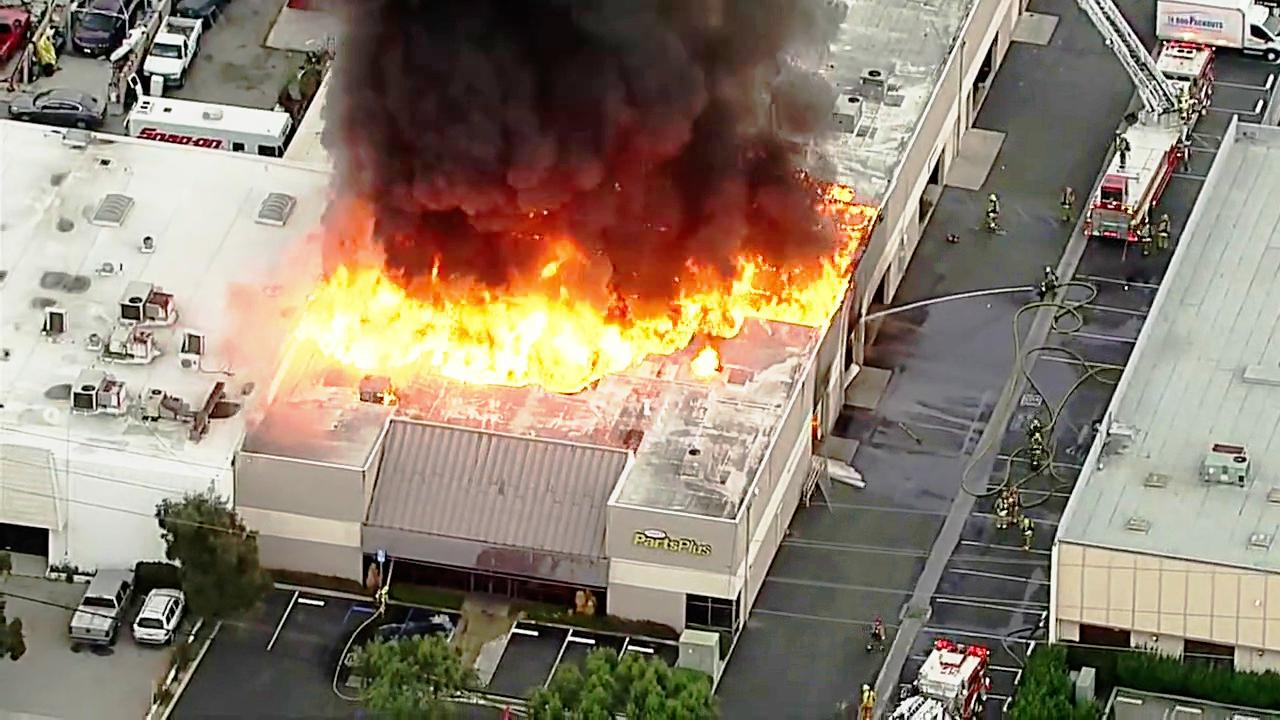fire: (425, 275, 632, 395), (638, 262, 852, 368), (310, 255, 434, 384)
smoke: (295, 0, 832, 240)
